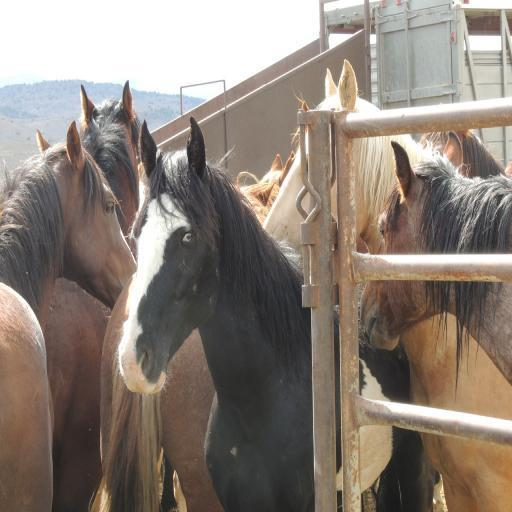horse: (0, 80, 512, 512)
